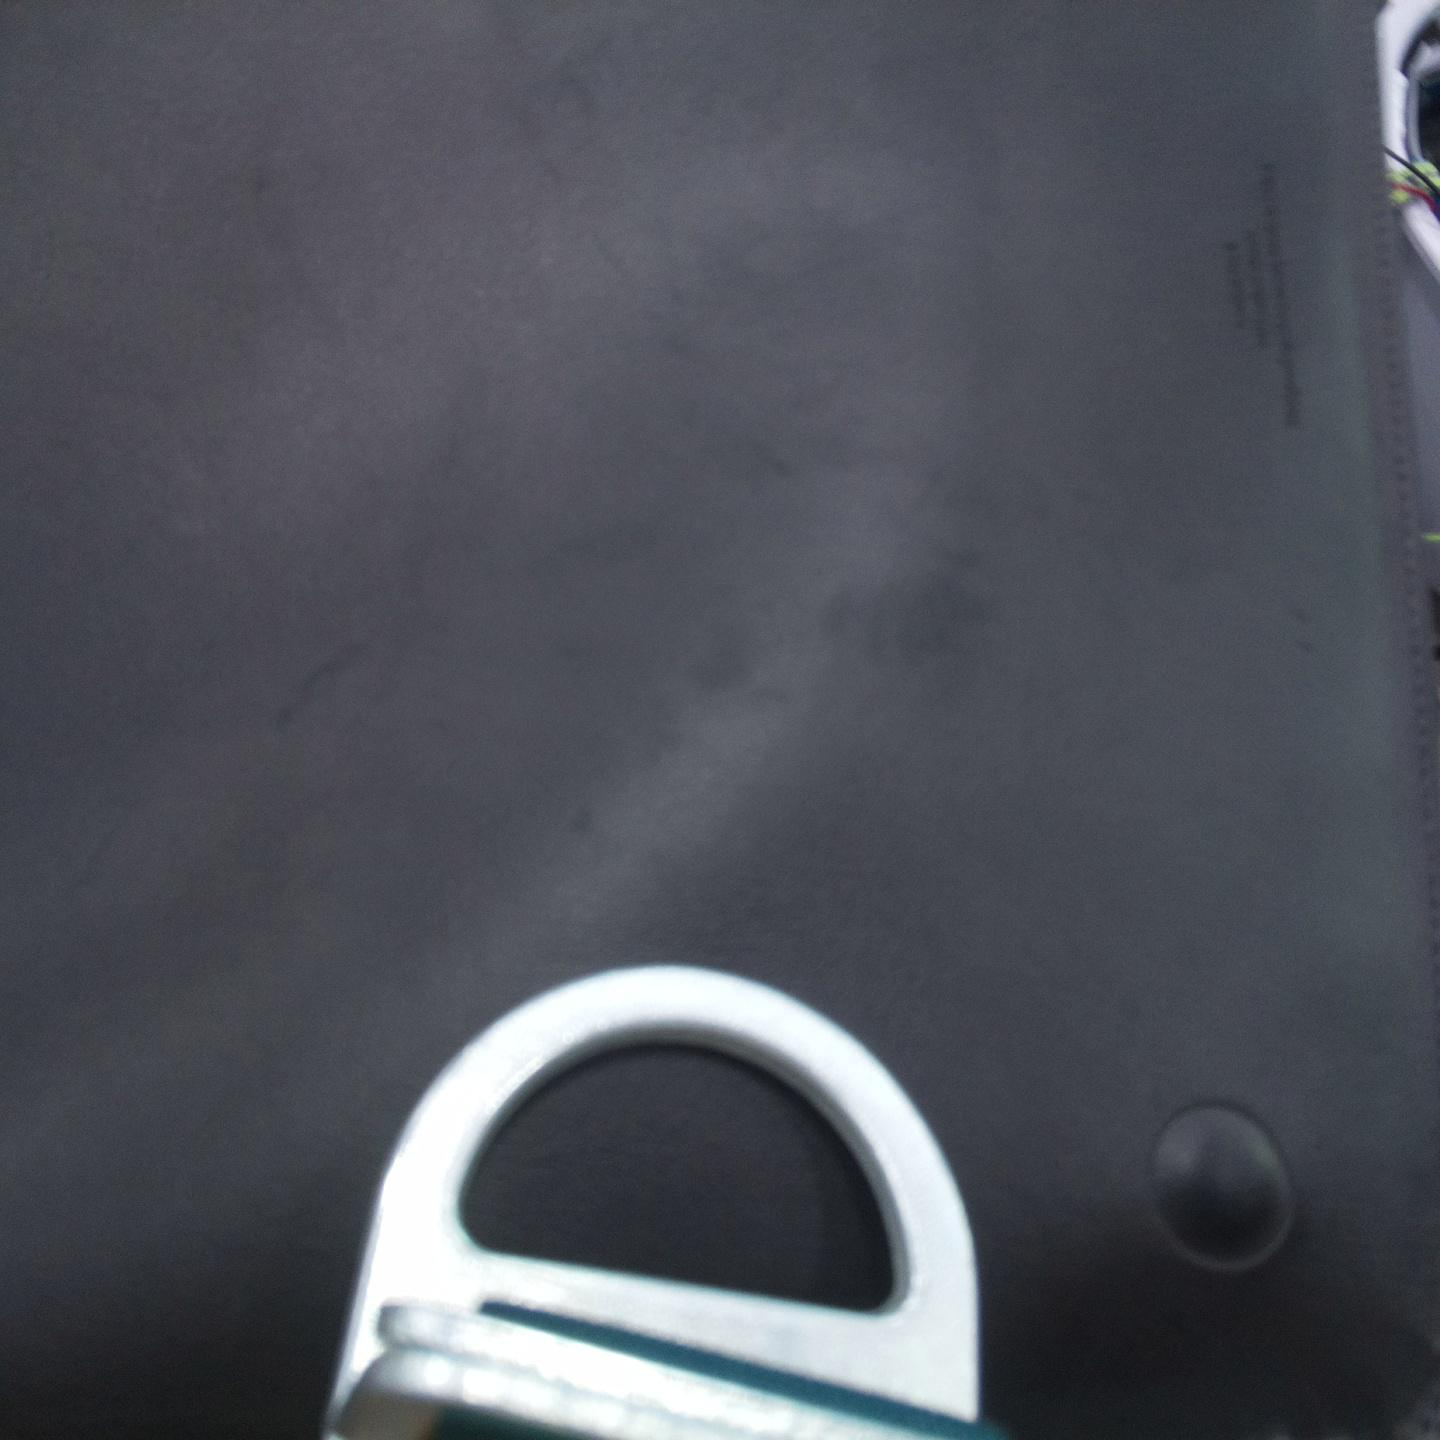UNSUCCESS: (347, 957, 989, 1422)
